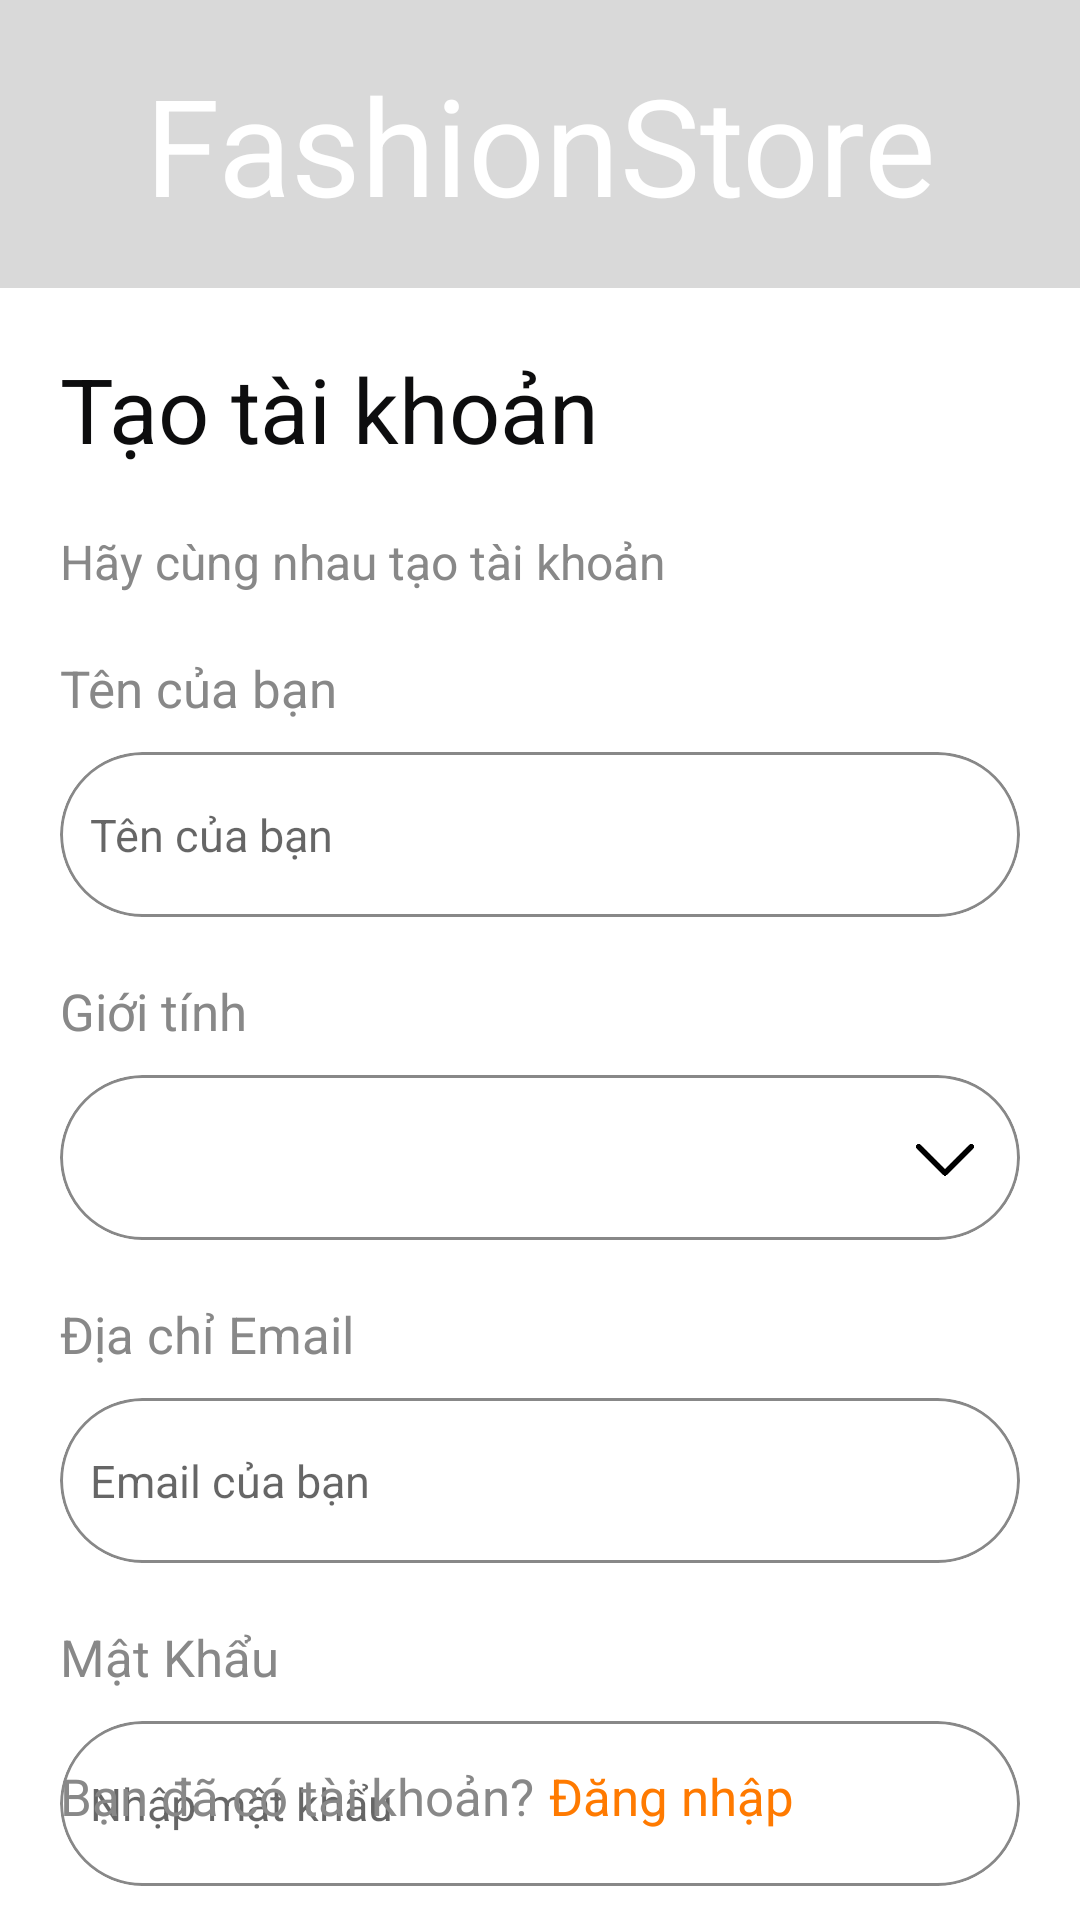

Where icons sit on this 1080 × 1920 app screen, as rect(x1, y1, x2, y2):
angle down: rect(900, 1075, 990, 1240)
